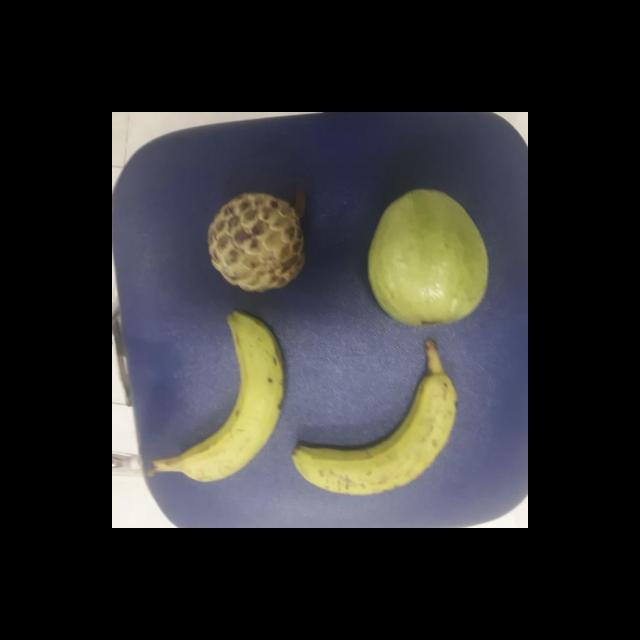banana: (293, 368, 462, 499), (178, 312, 286, 488)
guava: (368, 188, 490, 327), (201, 192, 308, 295)
